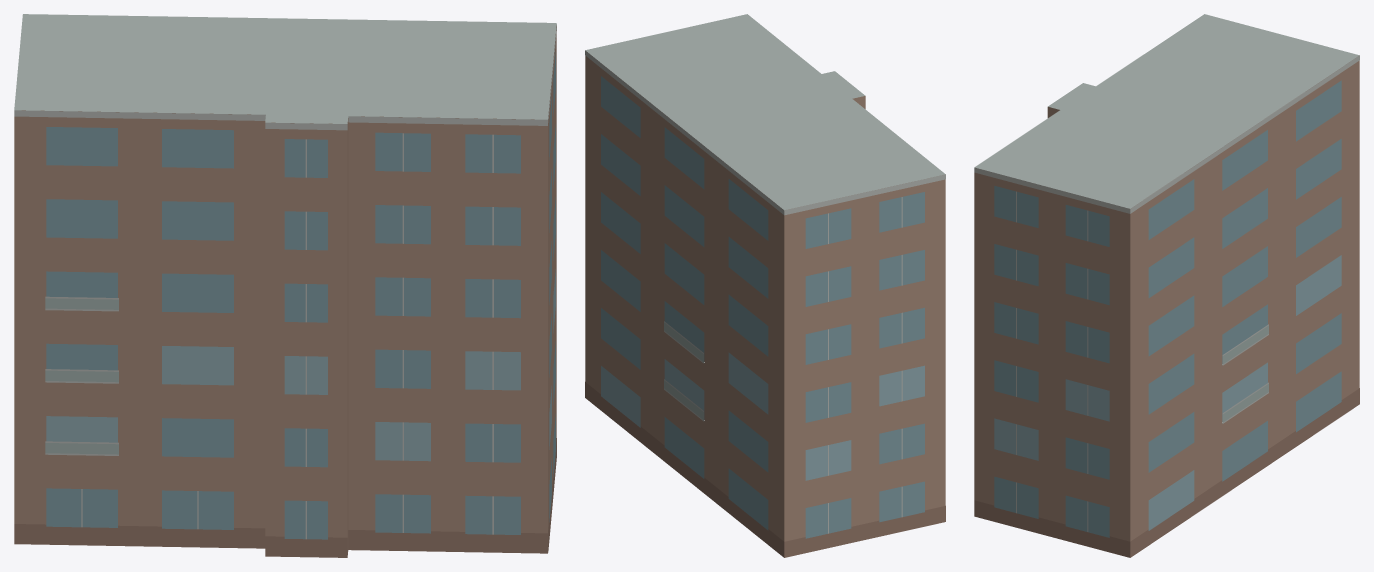
The model's file is survey-upis-32554414.glb.
3 views of the same model, side by side, from view 1: azimuth 30°, elevation 25°; view 2: azimuth 150°, elevation 25°; view 3: azimuth 270°, elevation 25° (orthographic). The views are drawn at different scales.
Parts seen in each view (by area): view 1: survey-upis-32554414.tmp; view 2: survey-upis-32554414.tmp; view 3: survey-upis-32554414.tmp.
Boxes of the visible parts, bbox=[...] form: survey-upis-32554414.tmp: bbox=[14, 14, 556, 557]; survey-upis-32554414.tmp: bbox=[585, 14, 945, 557]; survey-upis-32554414.tmp: bbox=[974, 14, 1359, 557].
Size of the model in its own units: 20.13 by 16.8 by 16.83.
